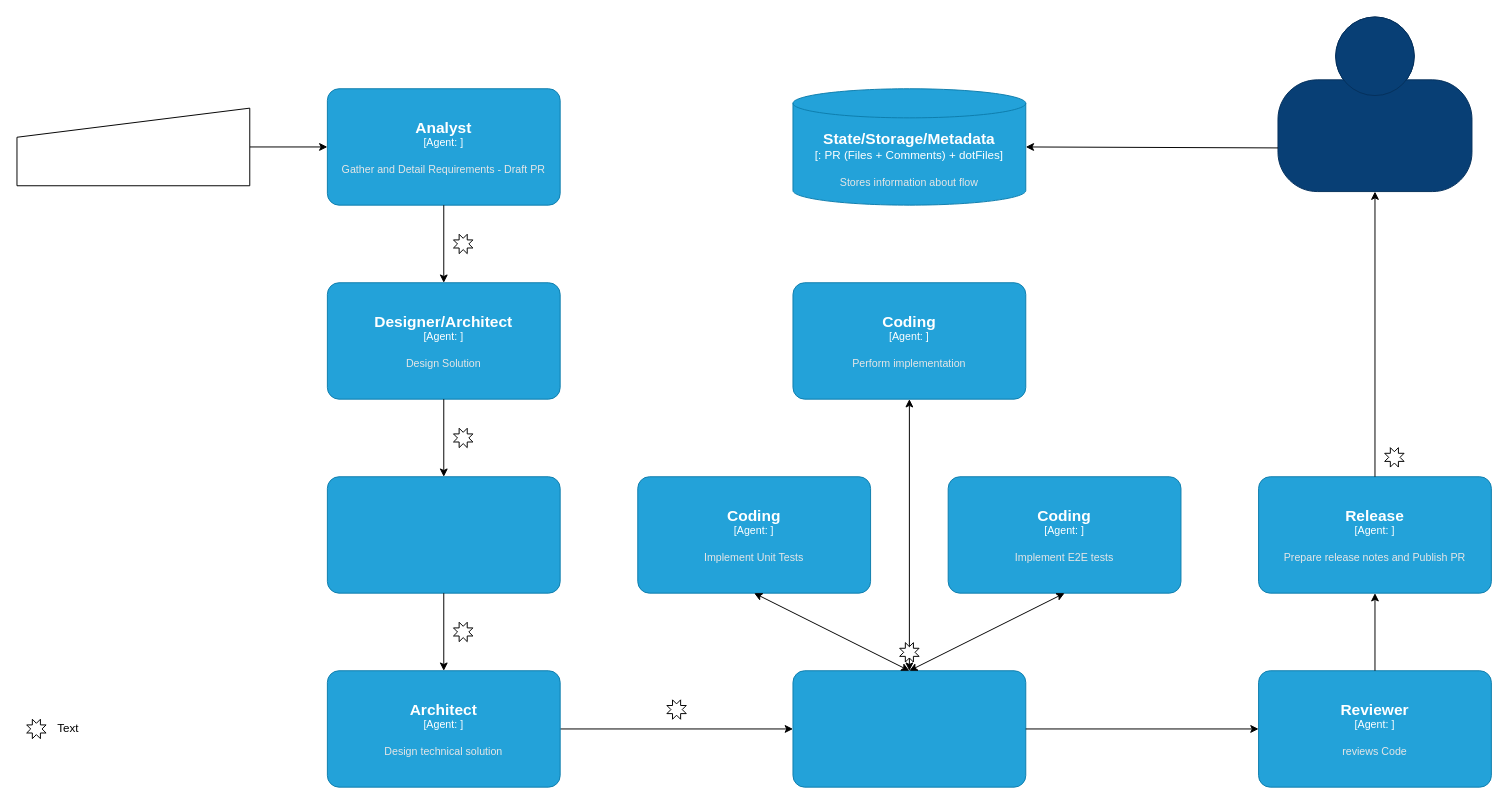
Some shapes in this 1508 by 804 pixel diagram are drawn without their labels. Each missing label, with the centre of its shape:
Functional/UI [Agent: ] Detailed requirements and UI: point (443, 534)
Planner [Agent: ] Plans implementation: point (909, 728)
Reviewer [Person] Reviewer: point (1374, 104)
Story/Manual/Ticket/Feature: point (133, 146)
